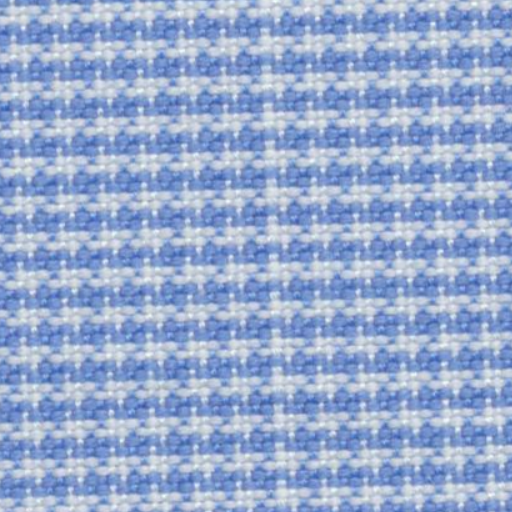TuoSha: (232, 26, 313, 498)
